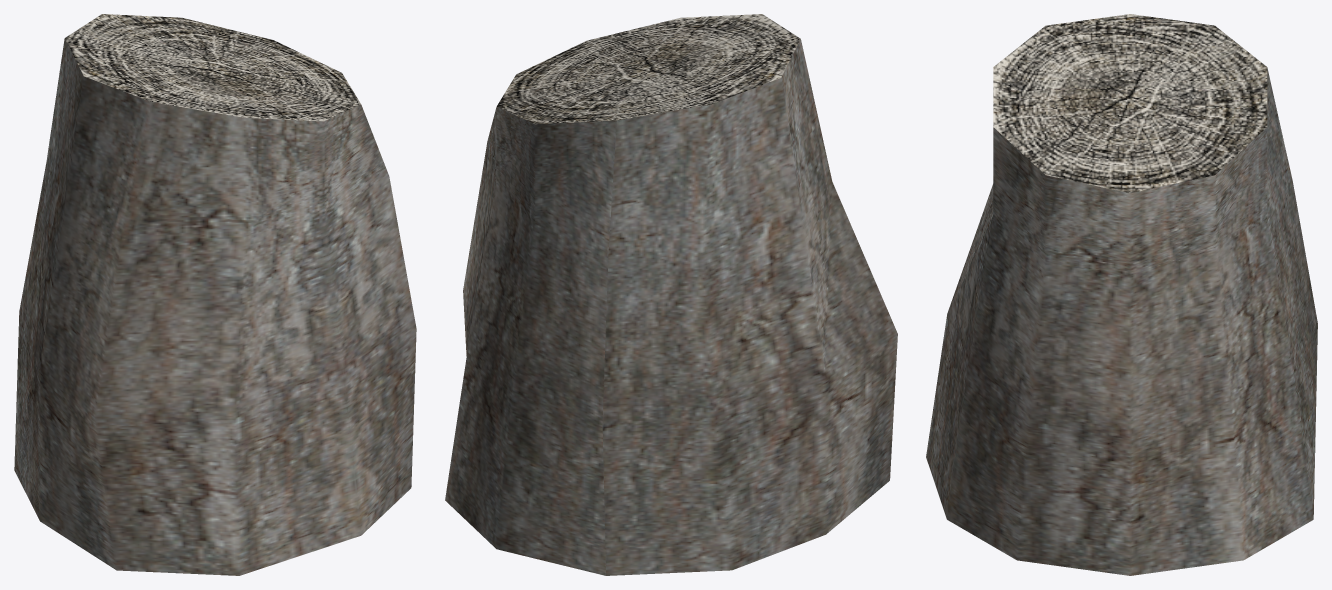
Rendered from Sharp_Stump07.gltf.
The picture shows the model from 3 angles, left to right: view 1: azimuth 30°, elevation 25°; view 2: azimuth 150°, elevation 25°; view 3: azimuth 270°, elevation 25°; orthographic projection. The views are drawn at different scales.
Visible parts, largest first — view 1: Stump; view 2: Stump; view 3: Stump.
Boxes of the visible parts, box(x1,y1,x2,y2) form: Stump: box(14, 14, 416, 575); Stump: box(445, 14, 897, 575); Stump: box(926, 14, 1317, 575).
Size of the model in its own units: 0.5354 by 0.6154 by 0.5209.
1 material, 1 textured.
